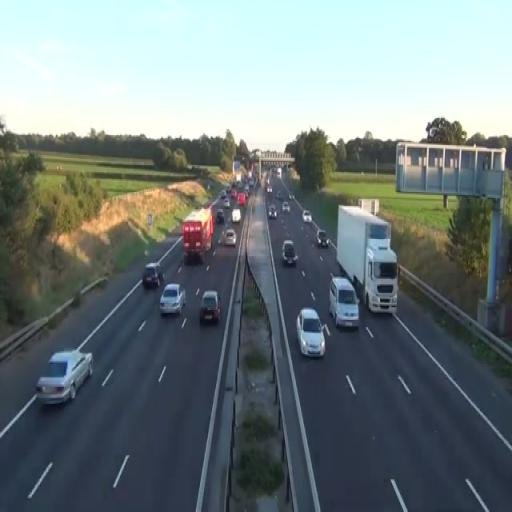Car: (36, 349, 94, 408), (329, 275, 359, 329), (296, 308, 326, 358), (159, 283, 186, 317), (199, 291, 221, 326), (142, 262, 164, 288), (281, 240, 298, 266), (223, 228, 236, 246), (232, 208, 241, 224), (268, 206, 277, 220)
Truck: (336, 205, 398, 316), (36, 349, 94, 408), (181, 206, 214, 262)
